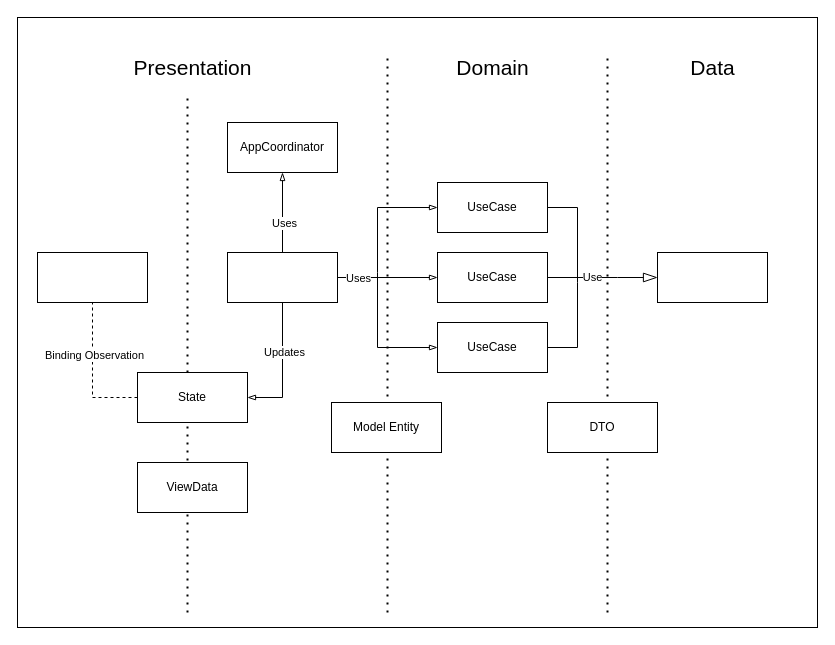
Image size: 835x645. Some labels were removed from this diagram. The centre of each missing label's shape, as x and y in pixels:
"Repository" goes at (712,277).
"View" goes at (92,277).
"ViewModel" goes at (282,277).
